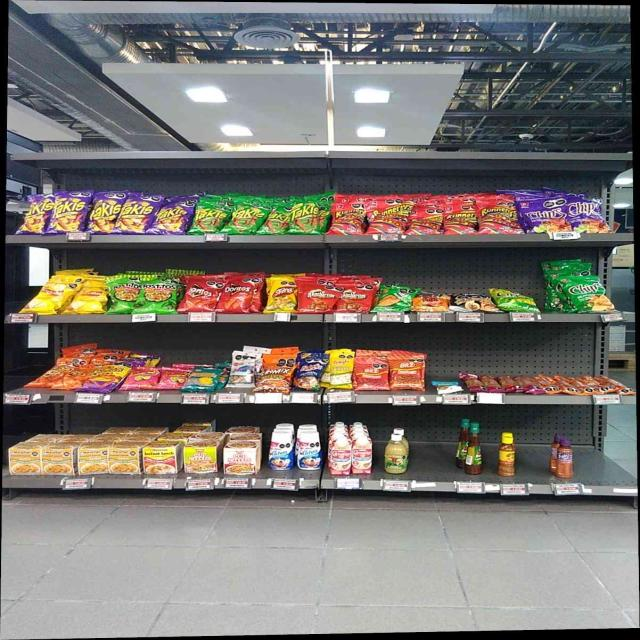bitzAlmendras: (433, 380, 461, 394)
bitzEnchilado90: (357, 356, 388, 390), (392, 356, 423, 390)
bitzEnchilado95: (544, 376, 630, 394)
bitzHabanero: (521, 376, 540, 393), (466, 373, 482, 392), (502, 374, 518, 393), (484, 373, 499, 392)
bokadosCacahuates: (295, 352, 322, 390)
botaneraChilito: (497, 434, 516, 477)
cheetosFlaminHot: (95, 362, 124, 392)
cheetosOriginal: (35, 363, 63, 388), (67, 366, 87, 386)
chipsFuego: (523, 198, 570, 232), (572, 198, 609, 234)
chipsJalapeno: (566, 276, 612, 312)
chipsPapatinas: (496, 288, 538, 312)
churrumais: (130, 368, 156, 388), (160, 367, 183, 389)
delPrimoSalsa: (384, 433, 408, 474)
doritosNacho: (183, 276, 217, 314), (223, 280, 254, 313)
fritosLimon: (269, 280, 295, 312)
hotNutsOriginal: (412, 294, 448, 312)
leoCacahuates: (231, 352, 255, 388)
leoMix: (260, 356, 290, 392)
maruchanPollo: (45, 442, 75, 475), (110, 442, 141, 473), (80, 441, 108, 474)
maruchanRes: (144, 441, 182, 474)
nestleCarnation: (329, 437, 350, 475), (352, 438, 372, 474)
nestleLechera: (297, 430, 324, 470), (268, 430, 293, 470)
nissinCamaron: (184, 440, 220, 473)
nissinRes: (223, 442, 262, 474)
popKarameladas: (451, 293, 494, 312)
rancheritos: (299, 285, 335, 312), (339, 284, 372, 312)
rufflesQueso: (378, 289, 410, 311)
runners: (370, 202, 402, 235), (330, 203, 362, 235), (479, 203, 510, 235), (413, 206, 443, 234), (447, 204, 475, 234)
sabritasOriginal: (33, 283, 67, 315), (73, 286, 106, 314)
salsaBufalo: (465, 422, 483, 474)
semillasCalabaza: (327, 358, 352, 389)
semillasGirasol: (190, 366, 216, 391)
tajinDulce: (556, 439, 574, 479)
takisFuego: (52, 192, 84, 233), (156, 198, 188, 235), (123, 196, 151, 233), (91, 193, 116, 234), (24, 194, 48, 234)
takisOriginal: (227, 203, 261, 234), (292, 202, 322, 235), (194, 201, 222, 234), (264, 206, 288, 234)
tostitos: (138, 277, 176, 314), (110, 279, 137, 314)
